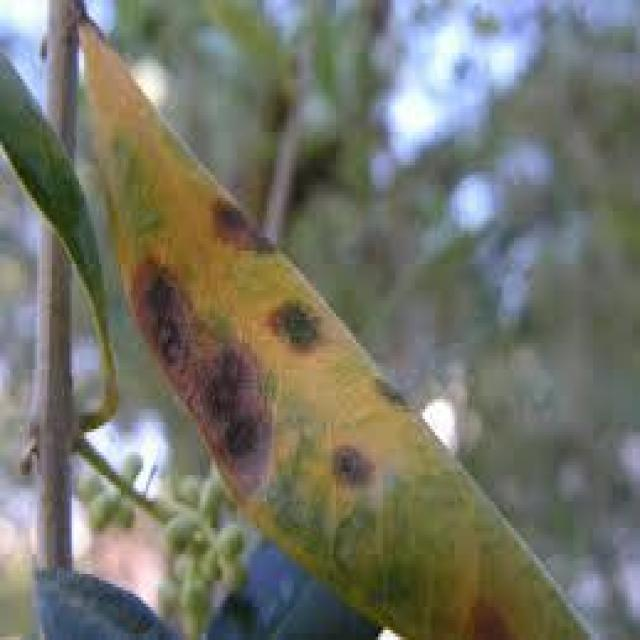Peacock Eye: (79, 16, 593, 637)
